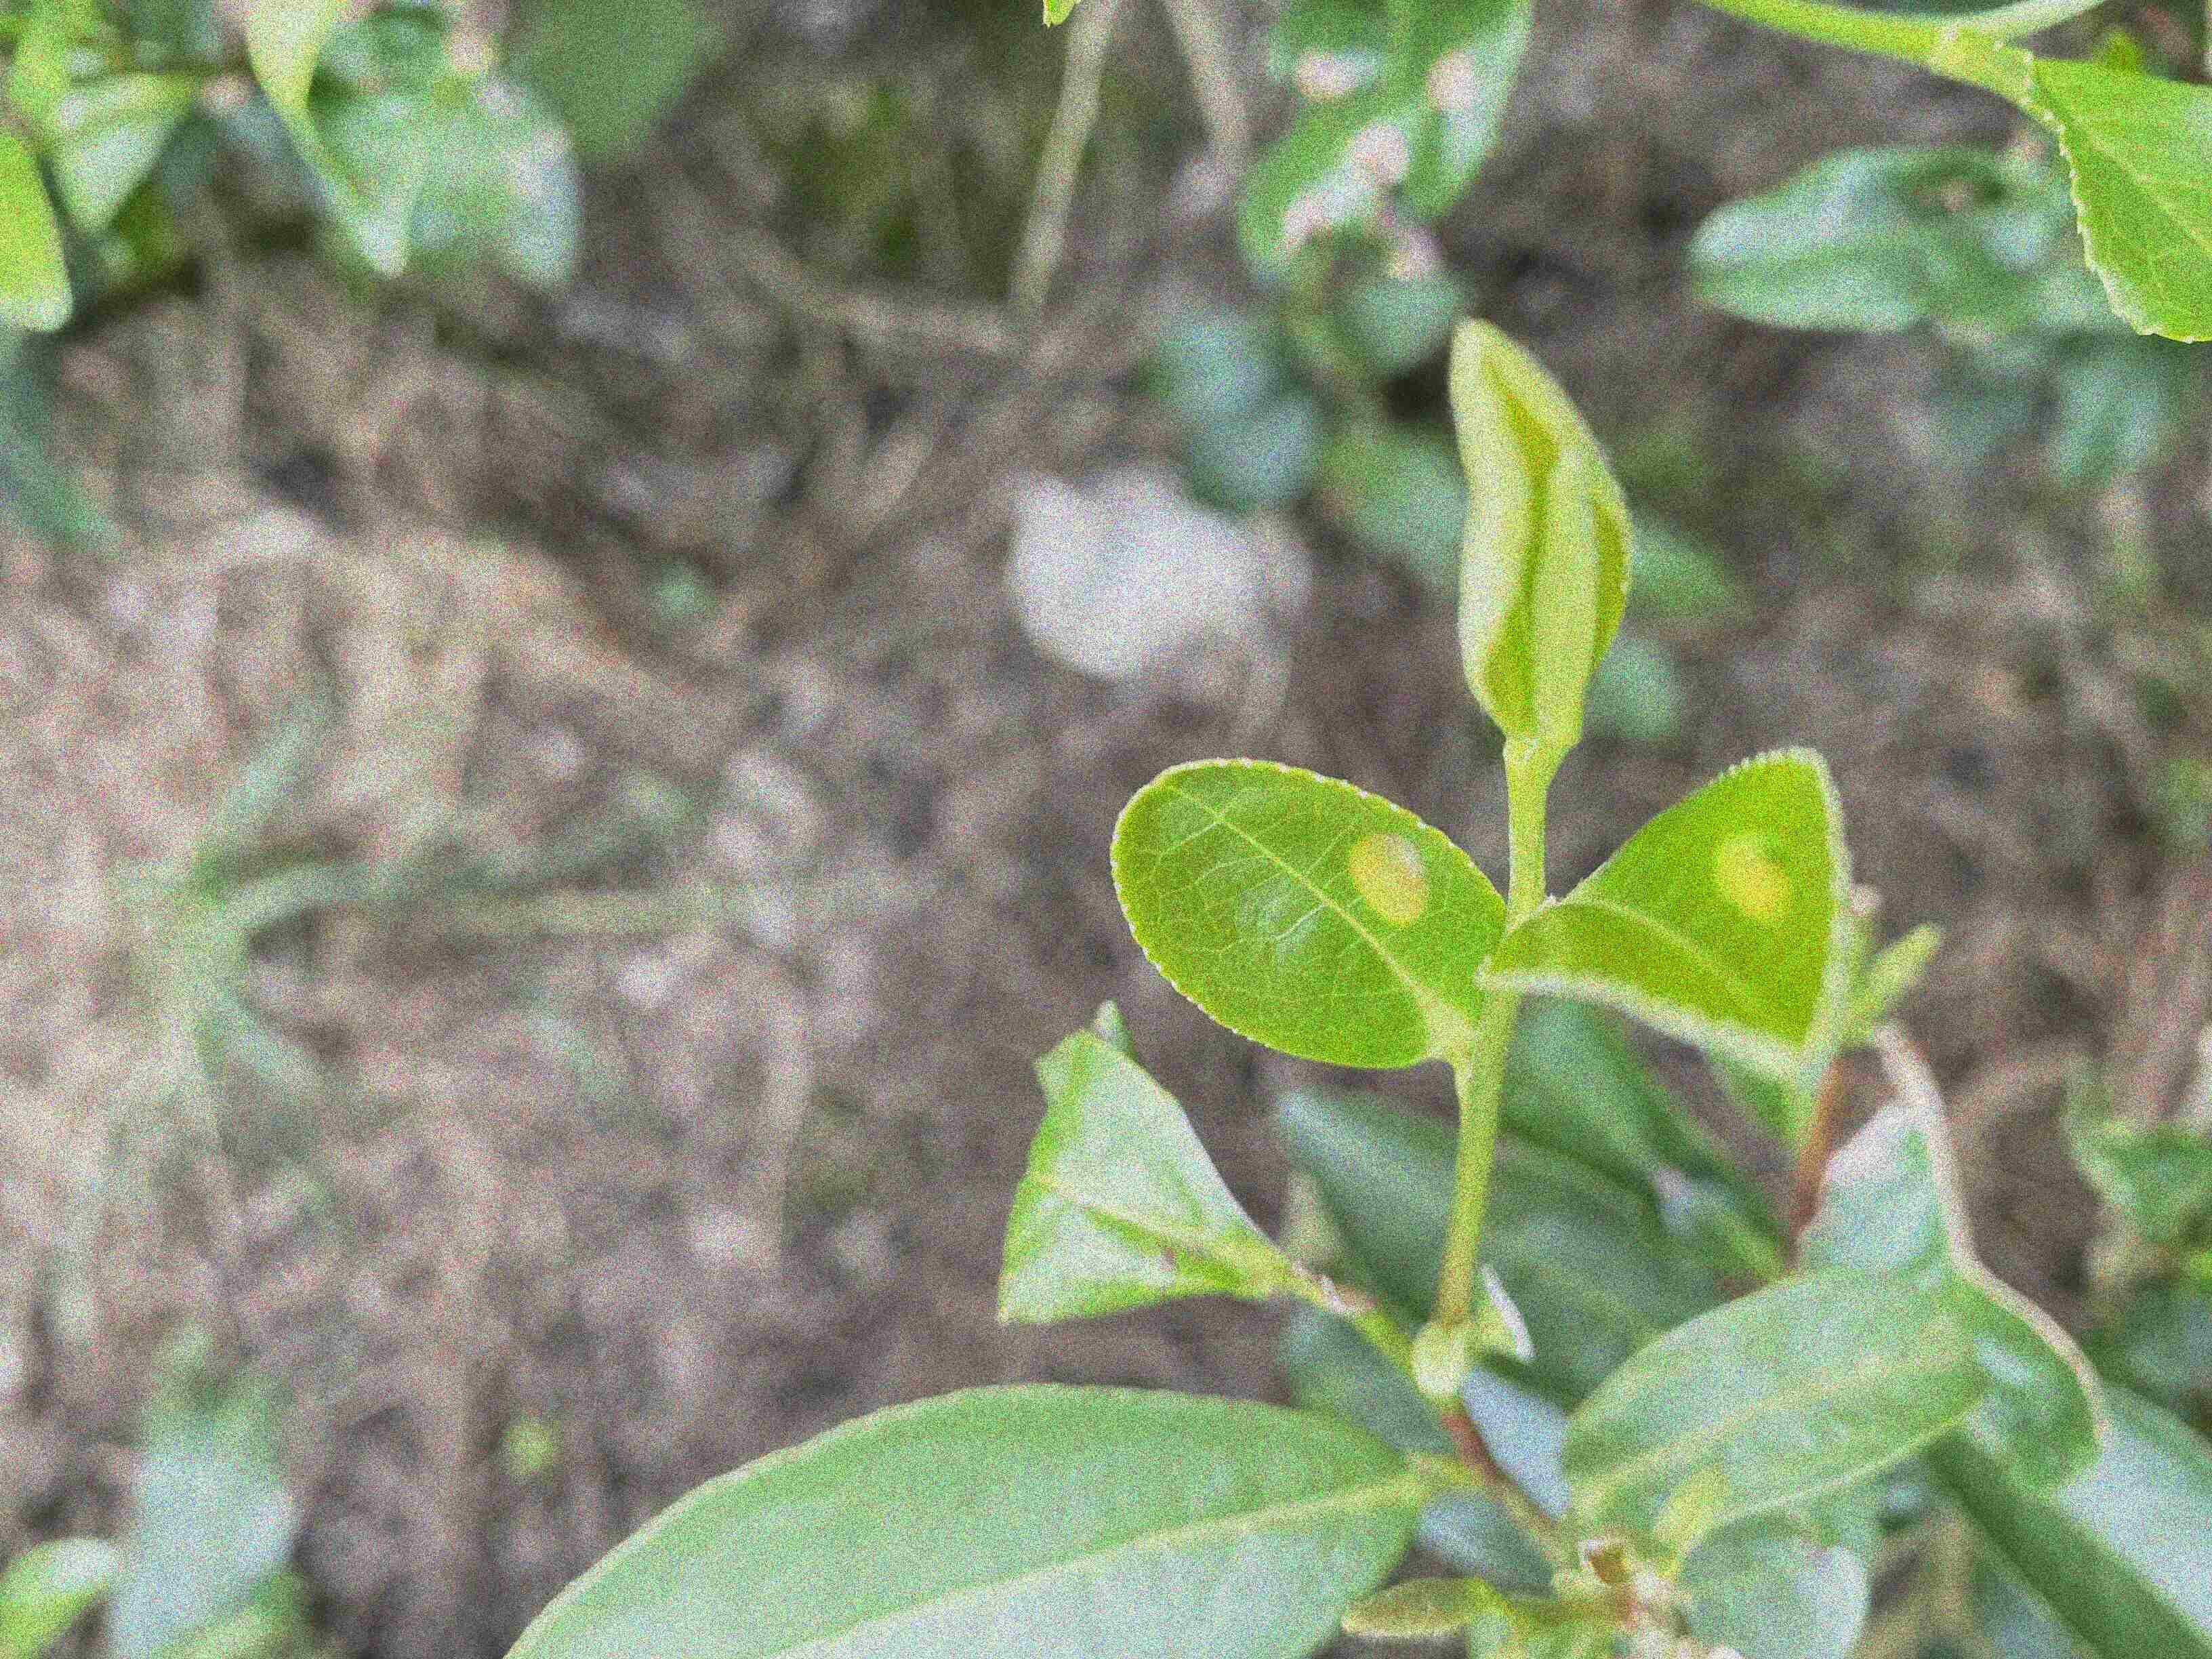chabing_low: (1108, 758, 1503, 1072), (1477, 744, 1844, 1056)
healthy: (503, 1384, 1414, 1659)
